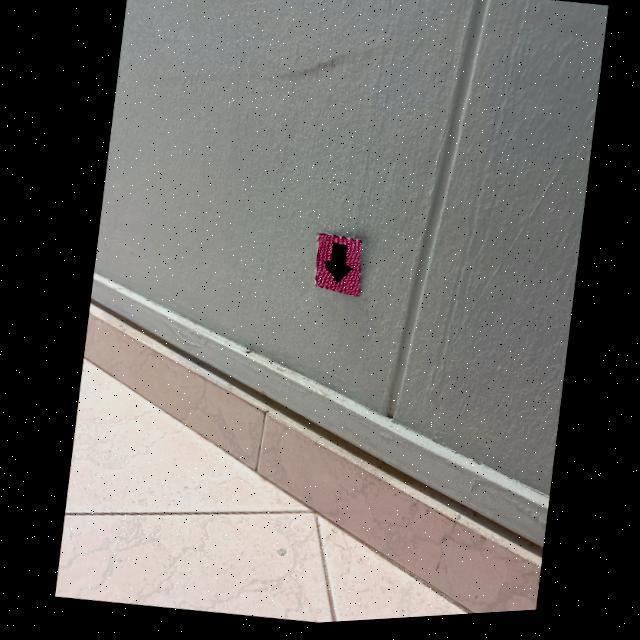DOWN: (320, 247, 353, 288)
